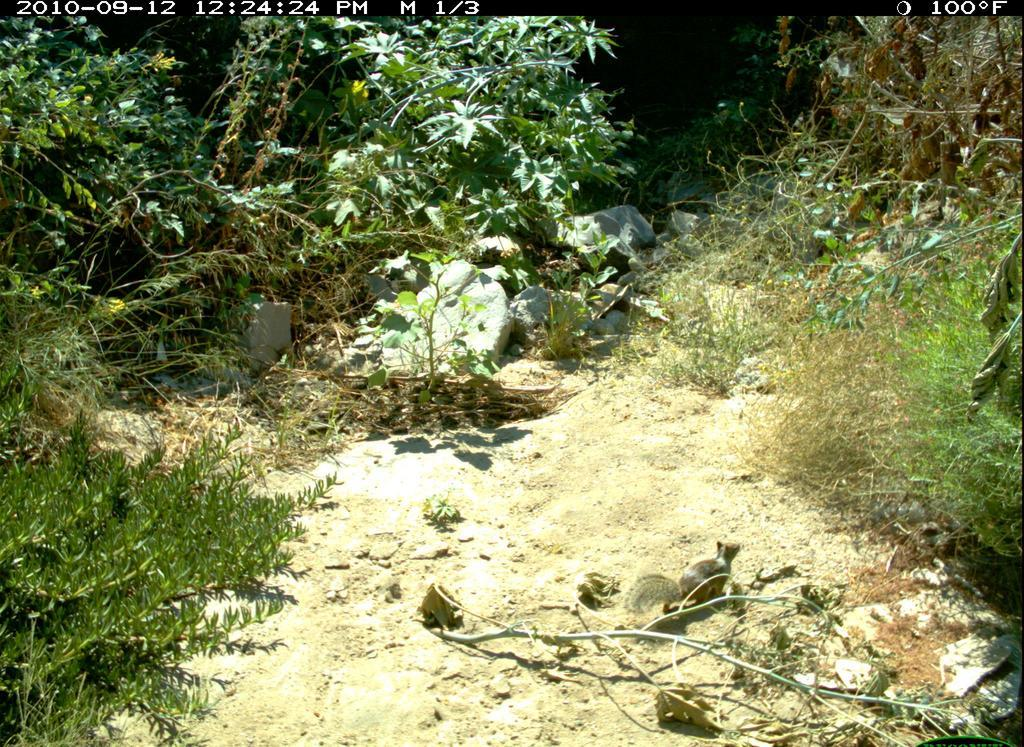squirrel: (621, 533, 749, 631)
